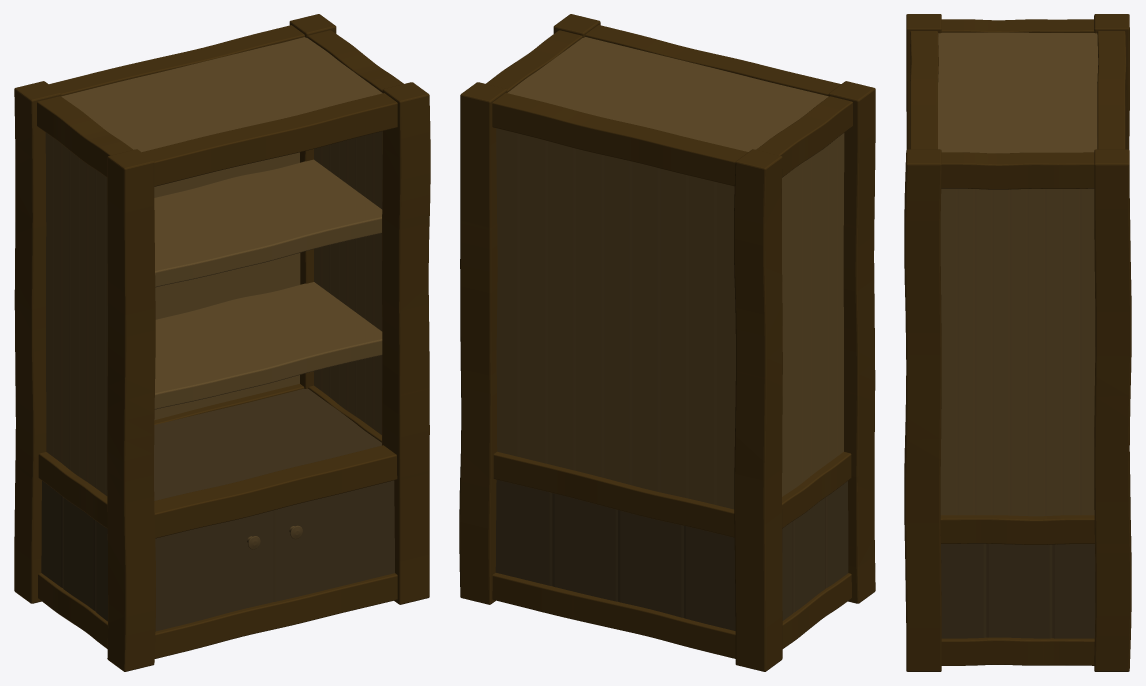
Rendered from TI_Shelf.obj.
3 views of the same model, side by side, from view 1: azimuth 30°, elevation 25°; view 2: azimuth 150°, elevation 25°; view 3: azimuth 270°, elevation 25° (orthographic).
Visible parts, largest first — view 1: Куб.072; view 2: Куб.072; view 3: Куб.072.
Part boxes in pixels (bbox=[...]): Куб.072: bbox=[14, 14, 430, 671]; Куб.072: bbox=[459, 14, 875, 671]; Куб.072: bbox=[904, 14, 1131, 671].
Bounding box in the file's own units: 5.05 × 7.96 × 3.22.
Materials: 1 (1 with a texture image).
